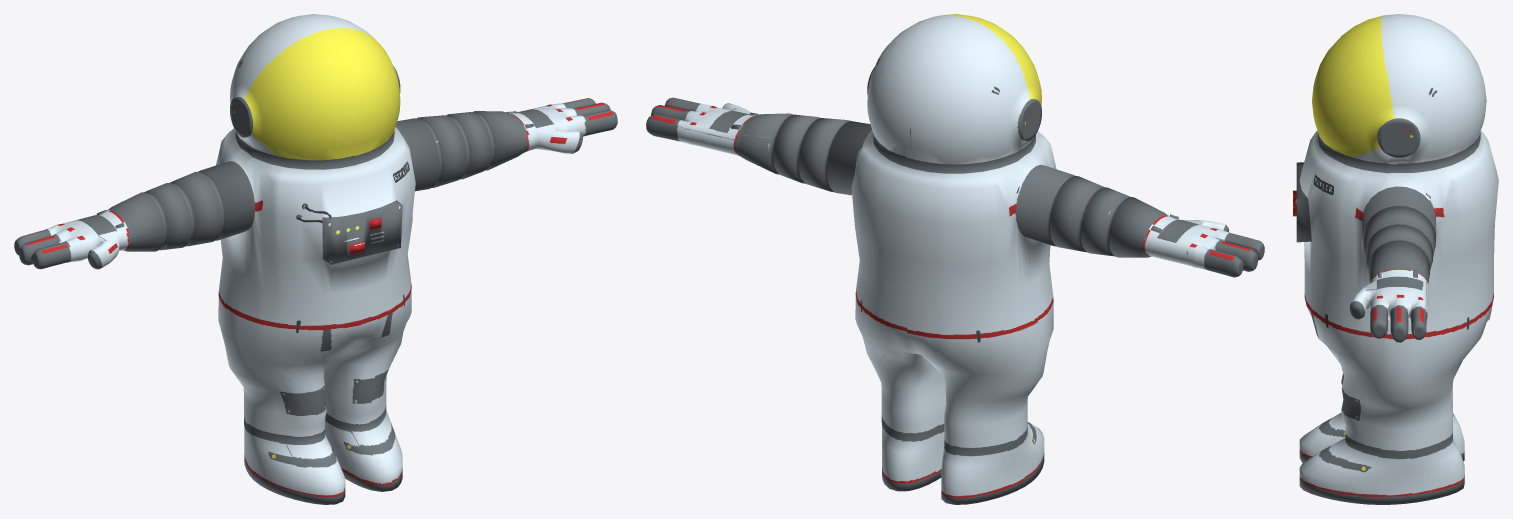
File: to_mixamo.fbx
The picture shows the model from 3 angles, left to right: view 1: azimuth 30°, elevation 25°; view 2: azimuth 150°, elevation 25°; view 3: azimuth 270°, elevation 25°; orthographic projection. The views are drawn at different scales.
Visible parts, largest first — view 1: Astronaut; view 2: Astronaut; view 3: Astronaut.
Boxes of the visible parts, x1,y1,x2,y2 form: Astronaut: [14, 14, 617, 504]; Astronaut: [646, 14, 1264, 504]; Astronaut: [1293, 14, 1498, 504].
Bounding box in the file's own units: 237 × 170 × 70.24.
Materials: 1 (1 with a texture image).
